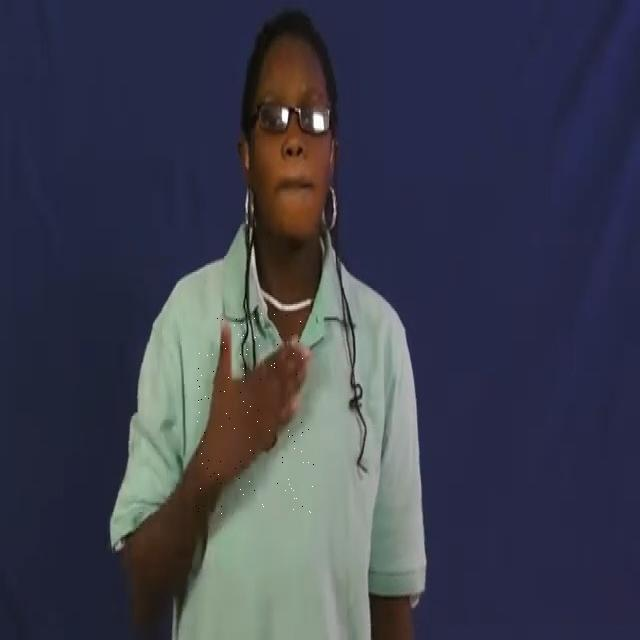please: (196, 312, 314, 514)
